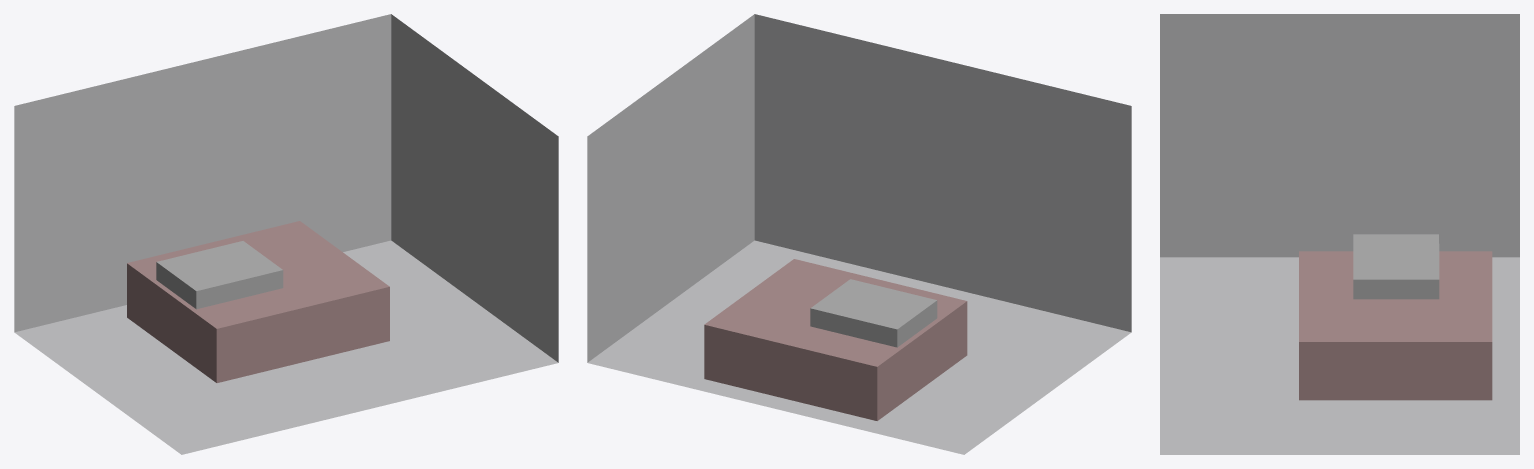
Rendered from optimised_layout.glb.
3 renders of one model, left to right at view 1: azimuth 30°, elevation 25°; view 2: azimuth 150°, elevation 25°; view 3: azimuth 270°, elevation 25°, orthographic. The views are drawn at different scales.
Visible parts, largest first — view 1: room, bed, studyTable, tableLamp; view 2: room, bed, studyTable, tableLamp; view 3: room, bed, tableLamp, studyTable.
Part boxes in pixels (<box>): room: <box>14,14,558,454</box>; bed: <box>127,221,389,382</box>; studyTable: <box>156,245,265,309</box>; tableLamp: <box>191,241,283,292</box>; room: <box>587,14,1131,454</box>; bed: <box>704,259,967,420</box>; studyTable: <box>828,283,937,347</box>; tableLamp: <box>810,279,879,343</box>; room: <box>1160,14,1519,454</box>; bed: <box>1299,251,1492,400</box>; tableLamp: <box>1353,244,1439,299</box>; studyTable: <box>1353,234,1438,256</box>.
Bounding box in the file's own units: 4.36 × 2.5 × 3.35.
